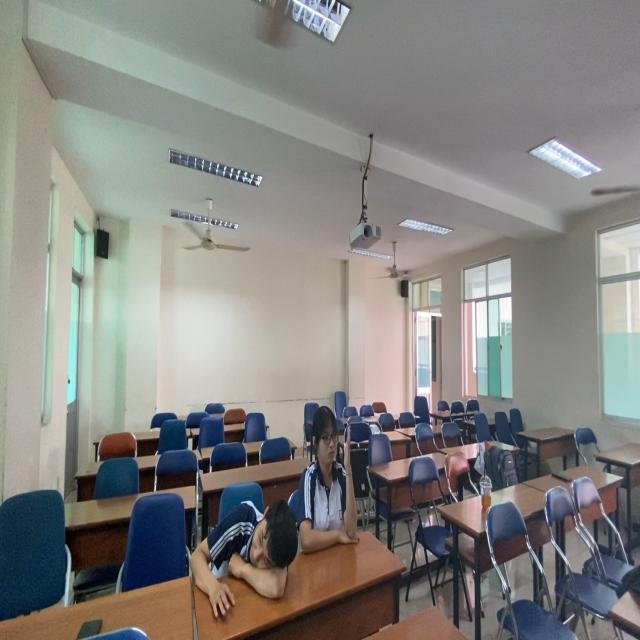raise_hand: (298, 406, 363, 559)
sleep: (190, 499, 301, 611)
